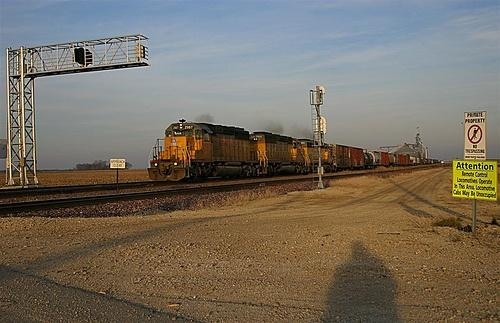train: (150, 120, 443, 183)
